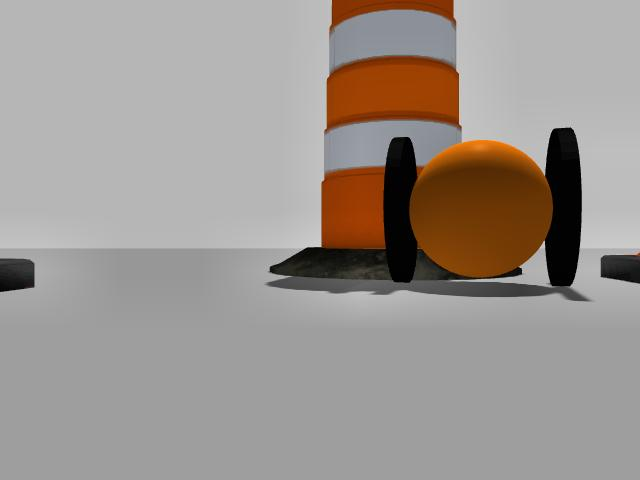target: (384, 127, 583, 289)
